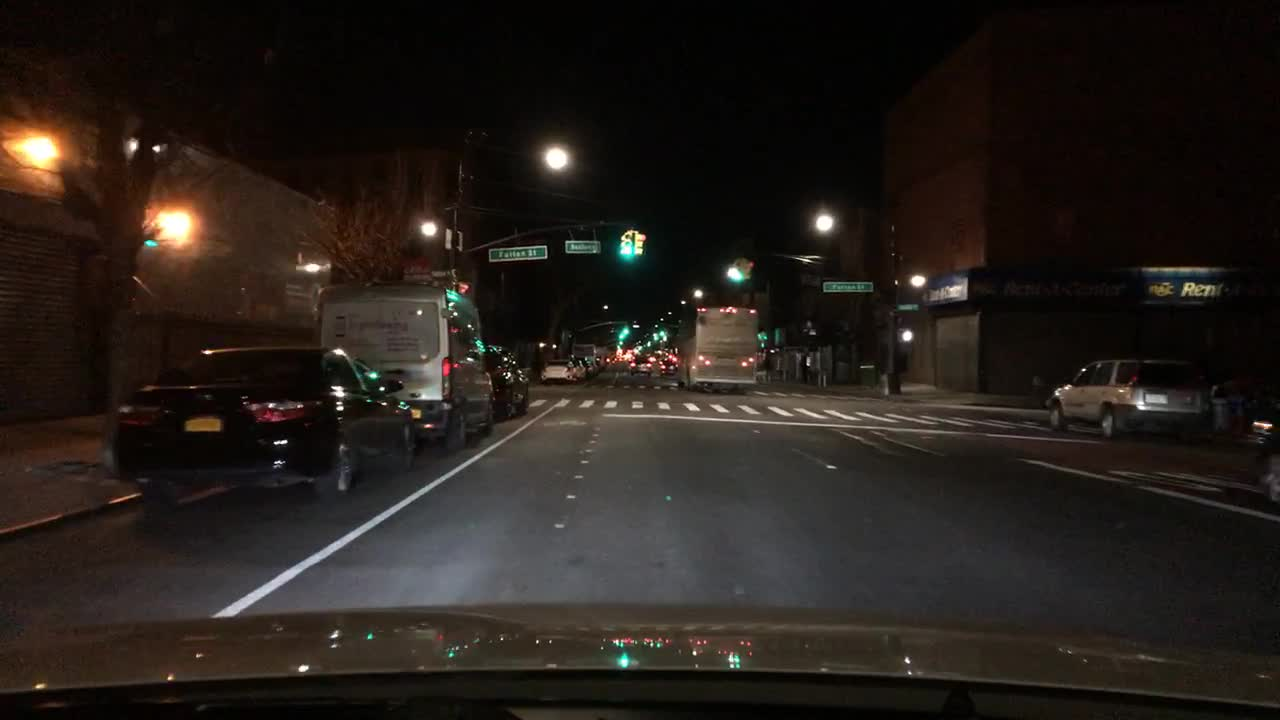bus: (673, 306, 758, 391), (571, 341, 607, 370)
car: (114, 346, 416, 506), (1043, 356, 1205, 442), (482, 341, 529, 419), (1250, 411, 1277, 504), (539, 361, 576, 380), (628, 356, 648, 373), (576, 356, 595, 373), (661, 360, 676, 375), (573, 360, 587, 375)
traffic light: (631, 232, 647, 255), (895, 326, 912, 341), (621, 232, 631, 257), (746, 259, 756, 281), (733, 260, 743, 279)
traffic sign: (486, 247, 546, 263), (822, 280, 874, 293), (565, 238, 600, 253), (898, 301, 920, 311)
truck: (315, 283, 492, 454)
